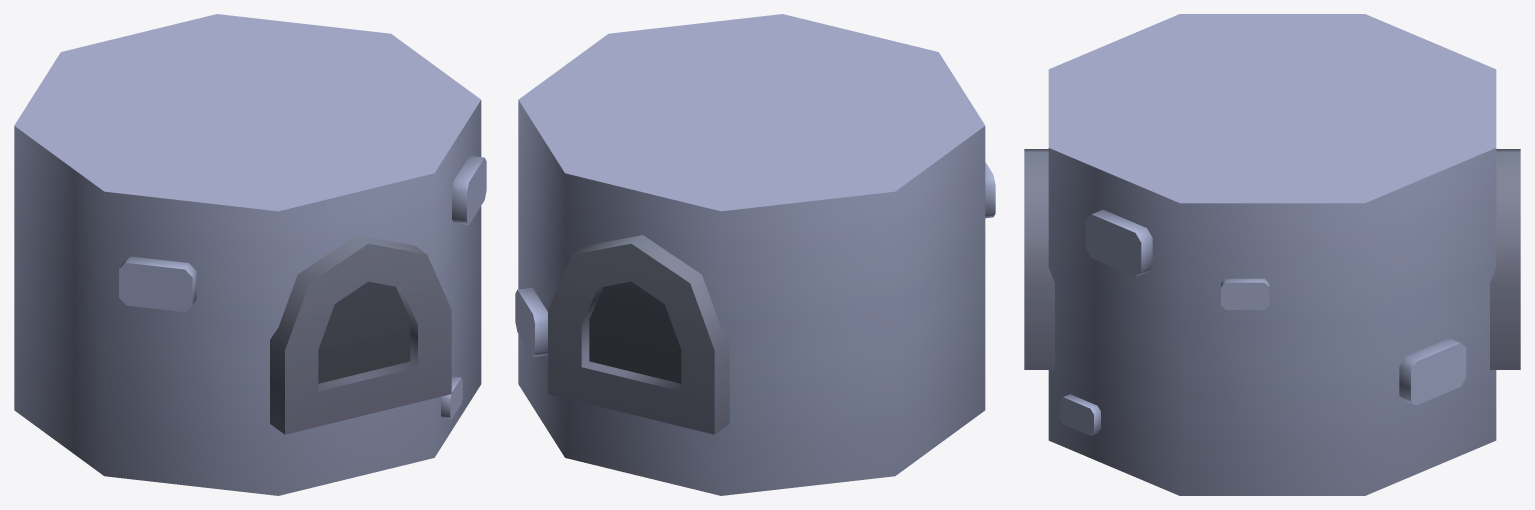
File: tower-middle-windows.glb
The picture shows the model from 3 angles, left to right: view 1: azimuth 30°, elevation 25°; view 2: azimuth 150°, elevation 25°; view 3: azimuth 270°, elevation 25°; orthographic projection. The views are drawn at different scales.
Visible parts, largest first — view 1: tower-middle-windows; view 2: tower-middle-windows; view 3: tower-middle-windows.
Boxes of the visible parts, x1=… form: tower-middle-windows: x1=14, y1=14, x2=486, y2=495; tower-middle-windows: x1=515, y1=14, x2=995, y2=495; tower-middle-windows: x1=1024, y1=14, x2=1520, y2=495.
Size of the model in its own units: 2.83 by 2 by 3.07.
1 material, 1 textured.
